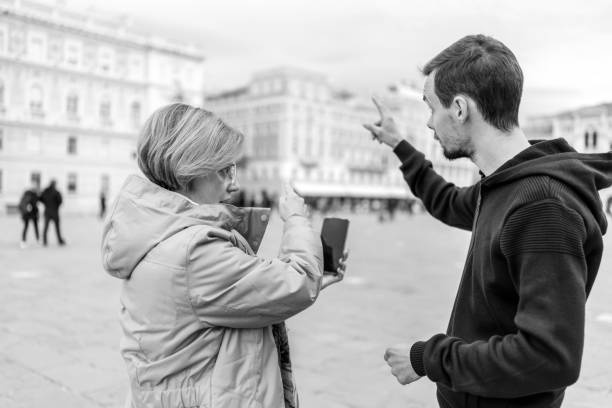pointing_gesture: (360, 94, 402, 148), (276, 178, 312, 217)
